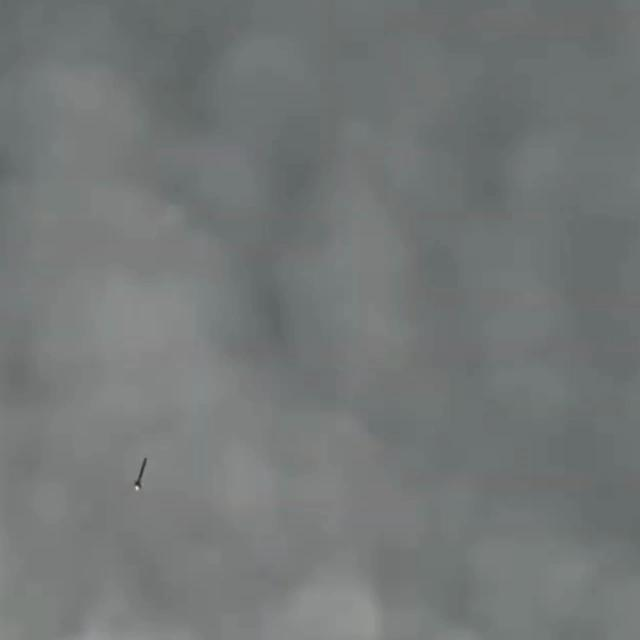rocket: (128, 459, 149, 493)
